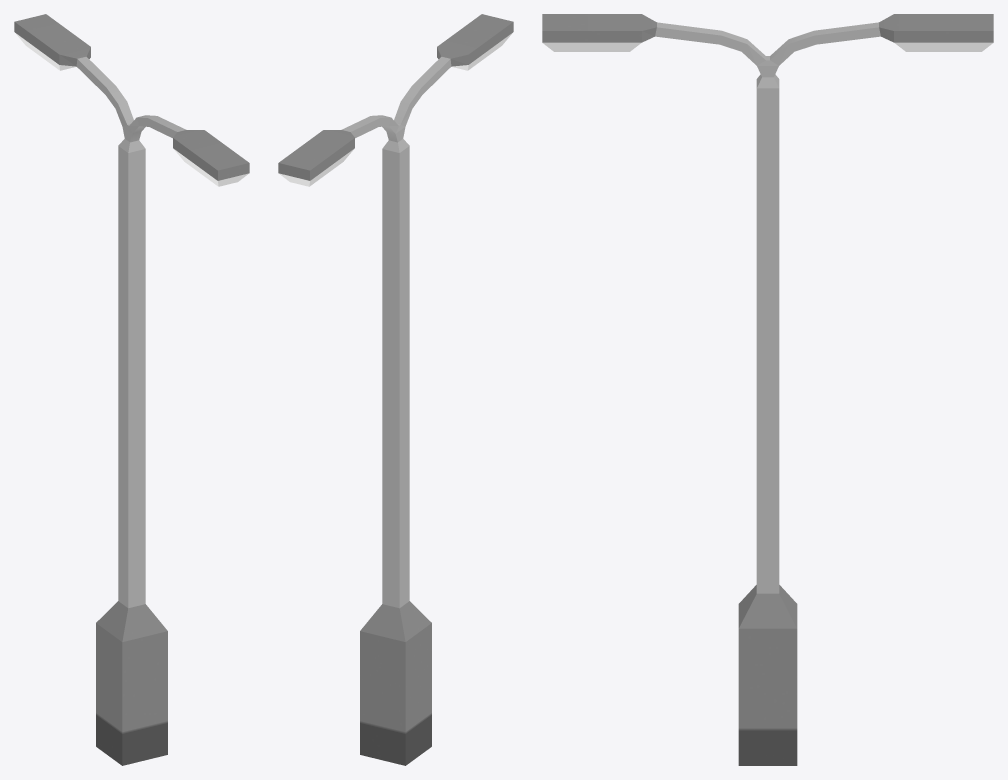
File: LampPost2.glb
The picture shows the model from 3 angles, left to right: view 1: azimuth 30°, elevation 25°; view 2: azimuth 150°, elevation 25°; view 3: azimuth 270°, elevation 25°; orthographic projection. The views are drawn at different scales.
Visible parts, largest first — view 1: lamppost_2; view 2: lamppost_2; view 3: lamppost_2.
Part boxes in pixels (bbox=[...]): lamppost_2: bbox=[14, 14, 249, 765]; lamppost_2: bbox=[278, 14, 513, 765]; lamppost_2: bbox=[542, 14, 993, 765].
Size of the model in its own units: 0.1657 by 2.29 by 1.28.
1 material, 1 textured.
